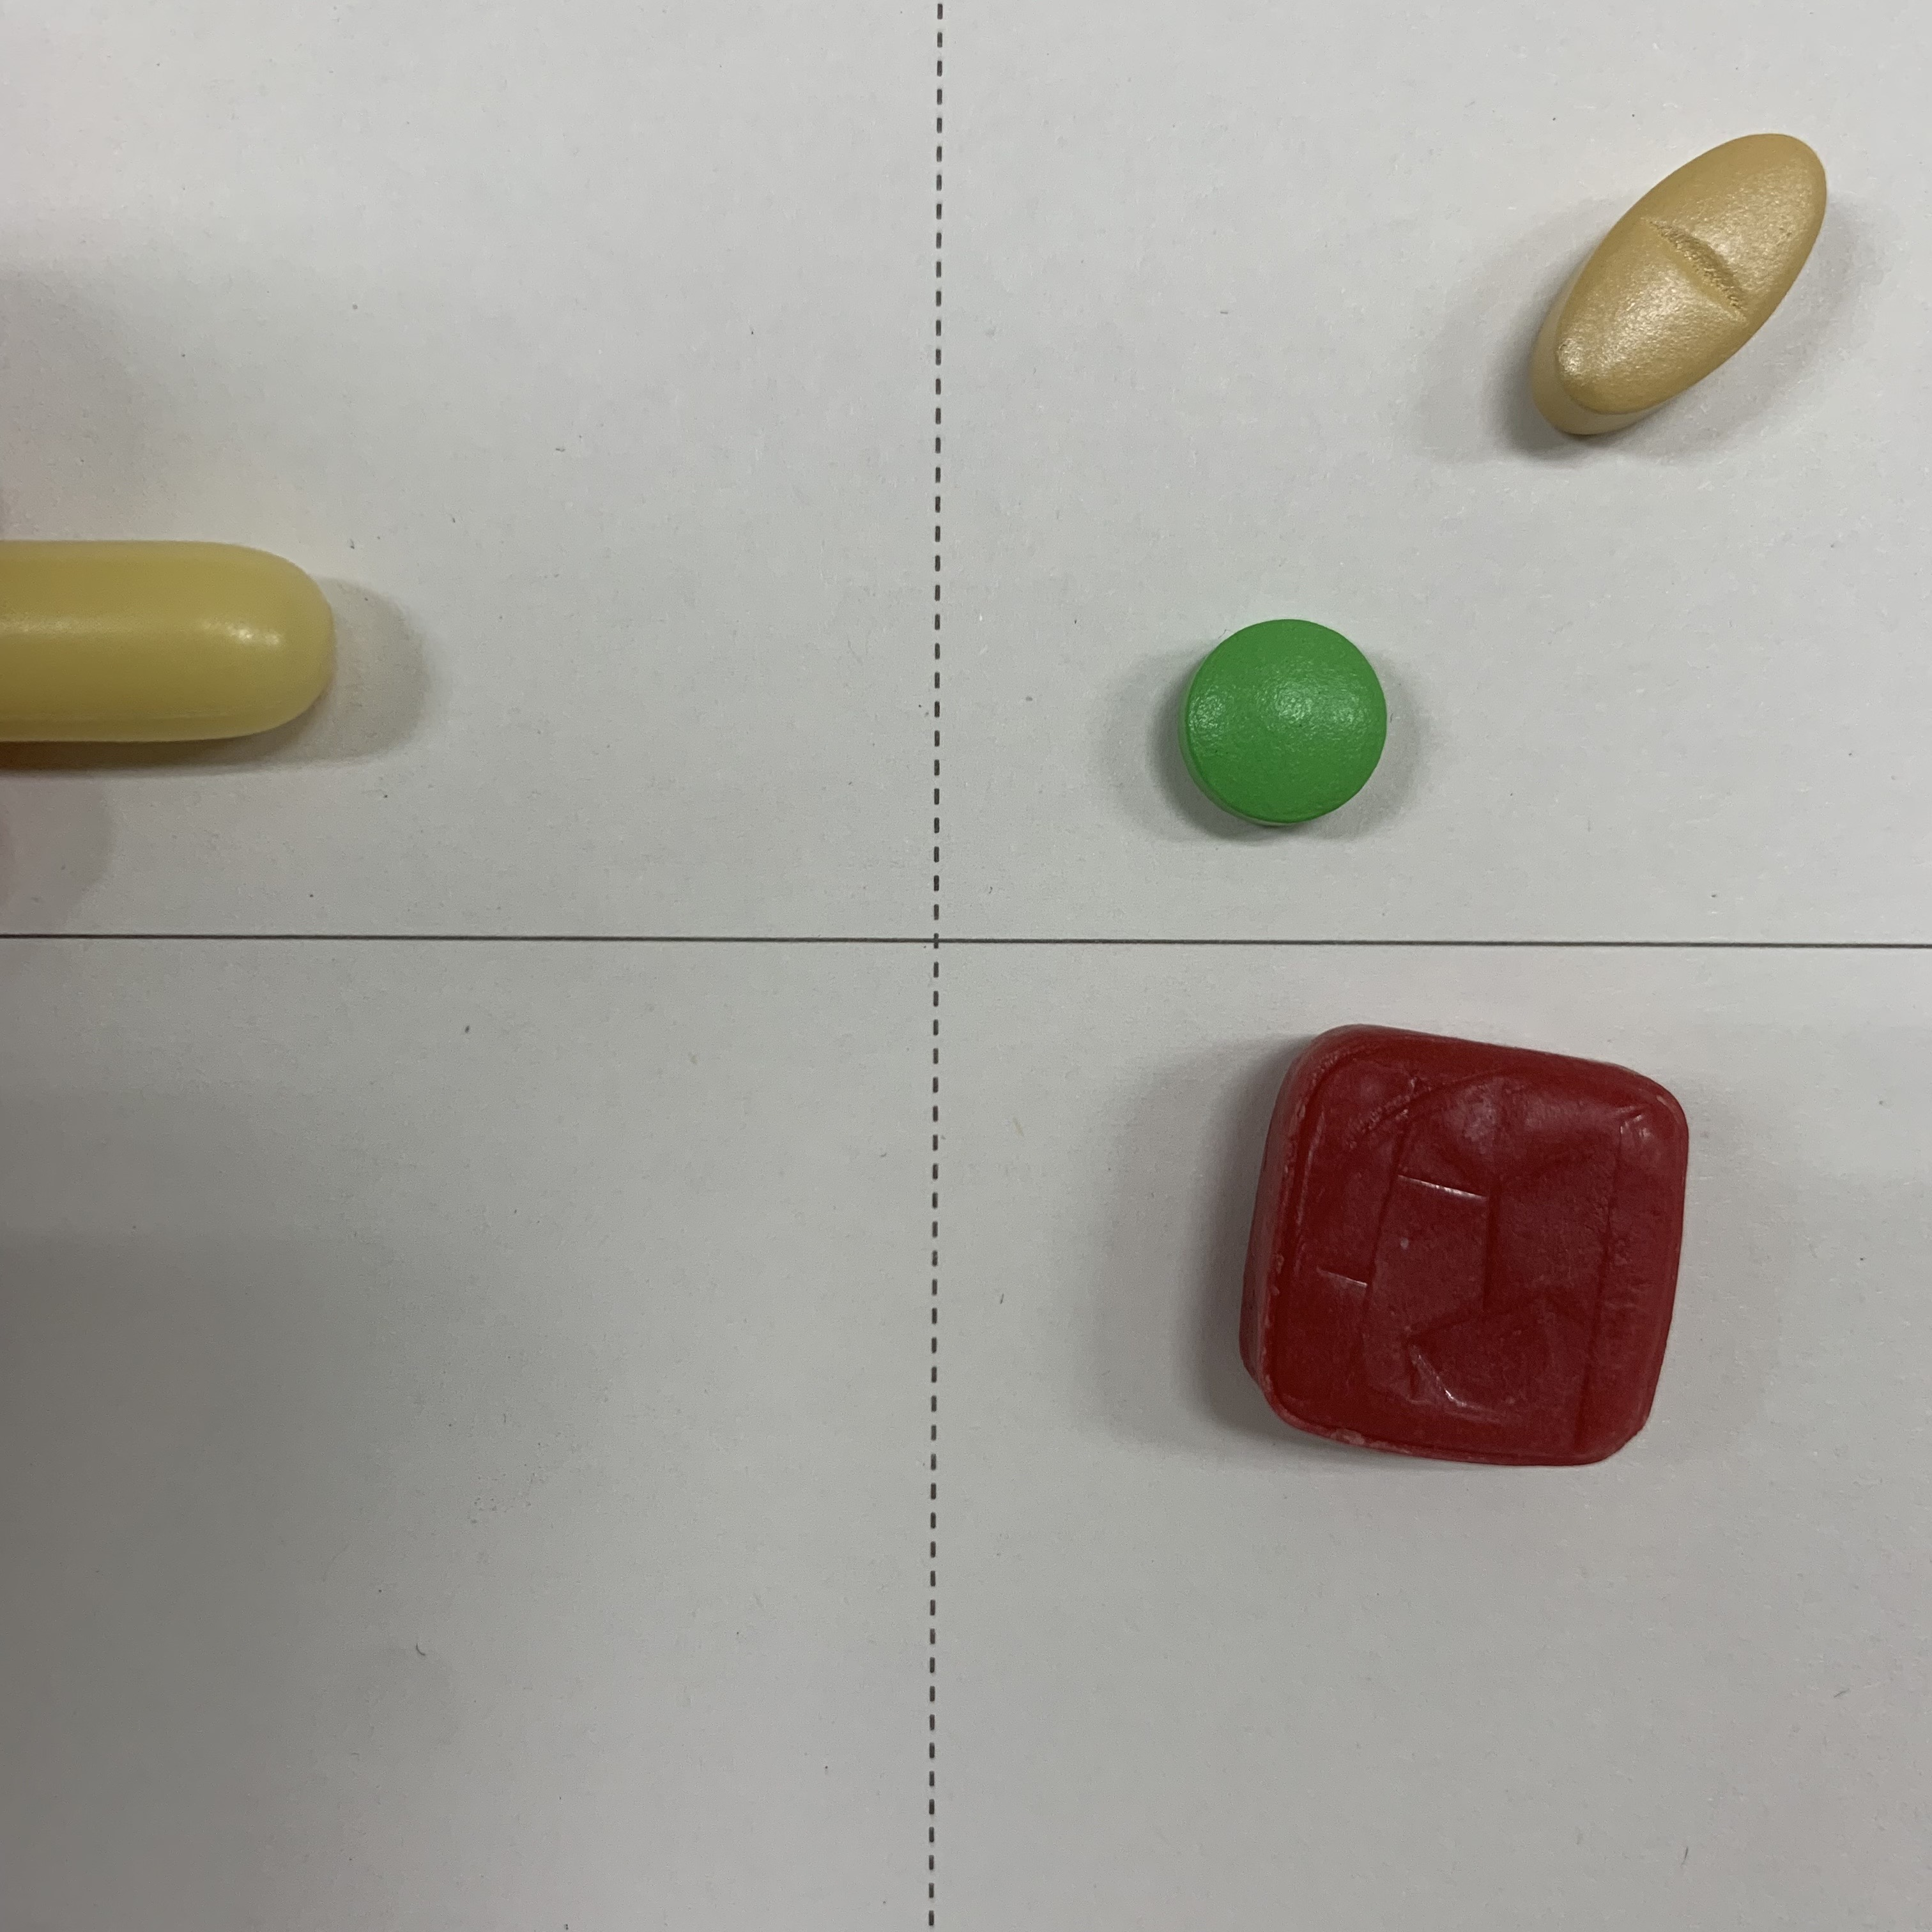cir_drug: (1136, 589, 1415, 849)
oval_drug: (1470, 113, 1856, 462)
sqr_drug: (1208, 1007, 1702, 1493)
